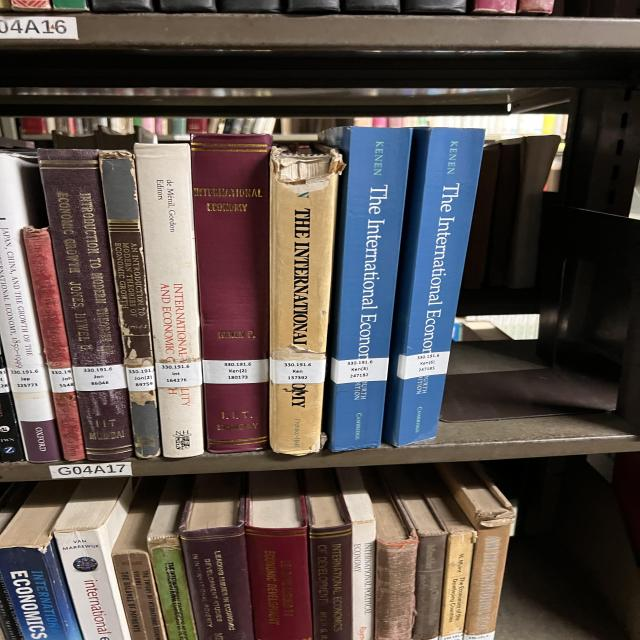Book: (383, 128, 483, 446), (318, 126, 412, 451), (38, 149, 133, 461), (192, 135, 272, 452), (270, 146, 345, 455), (135, 144, 203, 458), (0, 152, 62, 462), (98, 150, 160, 459)
Label: (202, 359, 268, 384), (397, 351, 450, 380), (330, 358, 388, 384), (72, 364, 127, 391), (270, 359, 327, 384), (155, 361, 202, 388), (8, 366, 50, 392), (125, 366, 155, 391), (48, 368, 75, 392)
